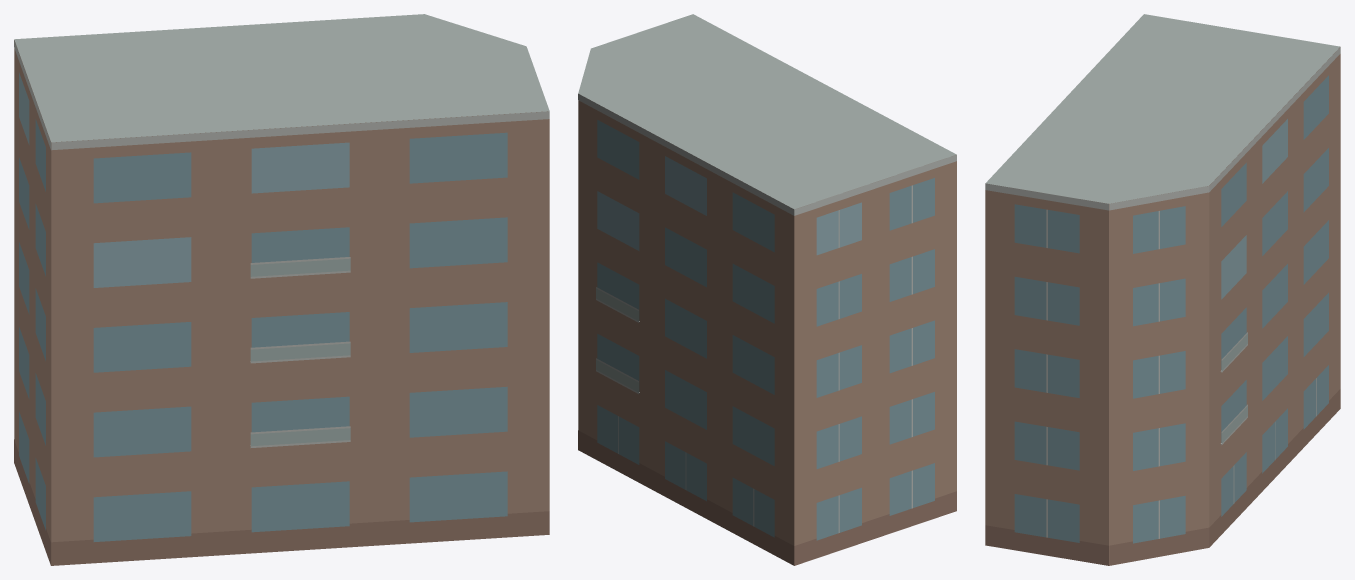
Rendered from survey-upis-32527778.glb.
3 renders of one model, left to right at view 1: azimuth 30°, elevation 25°; view 2: azimuth 150°, elevation 25°; view 3: azimuth 270°, elevation 25°, orthographic. The views are drawn at different scales.
Visible parts, largest first — view 1: survey-upis-32527778.tmp; view 2: survey-upis-32527778.tmp; view 3: survey-upis-32527778.tmp.
Boxes of the visible parts, box(x1,y1,x2,y2) form: survey-upis-32527778.tmp: box(14, 14, 549, 565); survey-upis-32527778.tmp: box(578, 14, 956, 565); survey-upis-32527778.tmp: box(985, 14, 1340, 565).
Bounding box in the file's own units: 14.86 × 13.2 × 11.75.
